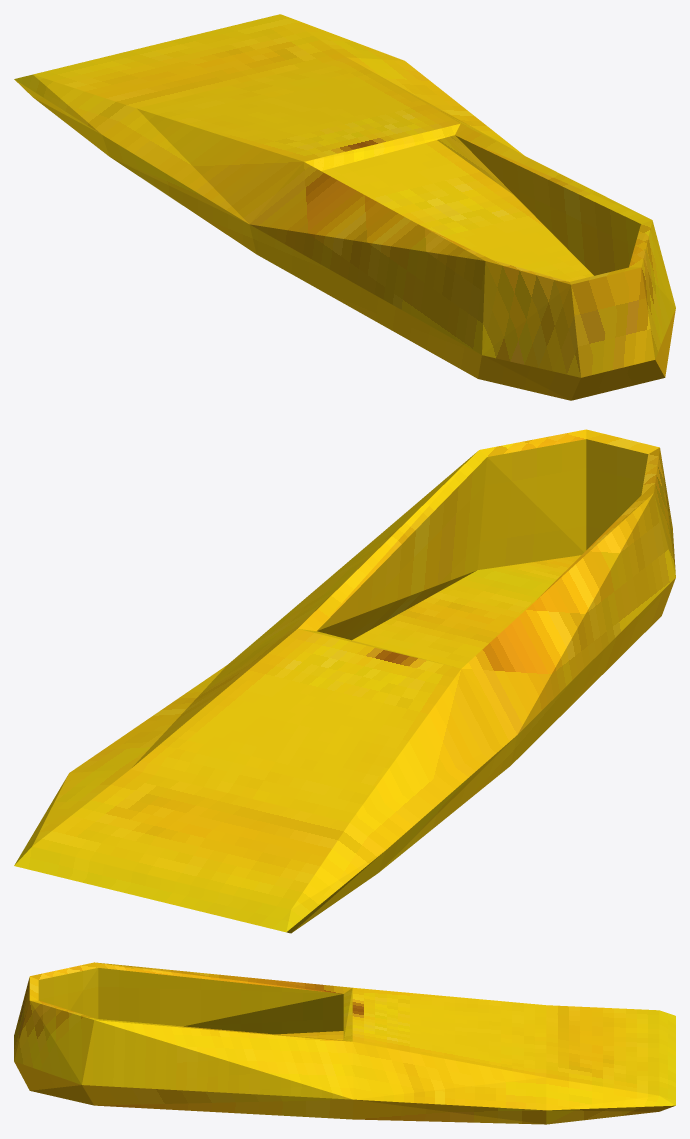
The model's file is SwimmingFin01Rht.obj.
3 renders of one model, top to bottom at view 1: azimuth 30°, elevation 25°; view 2: azimuth 150°, elevation 25°; view 3: azimuth 270°, elevation 25°, orthographic. The views are drawn at different scales.
Parts seen in each view (by area): view 1: SwimmingFin01Rht; view 2: SwimmingFin01Rht; view 3: SwimmingFin01Rht.
Part boxes in pixels (box(x1,y1,x2,y2)): SwimmingFin01Rht: box(14, 14, 675, 400); SwimmingFin01Rht: box(14, 429, 675, 933); SwimmingFin01Rht: box(14, 962, 675, 1124).
Bounding box in the file's own units: 0.5367 × 0.1967 × 1.44.
